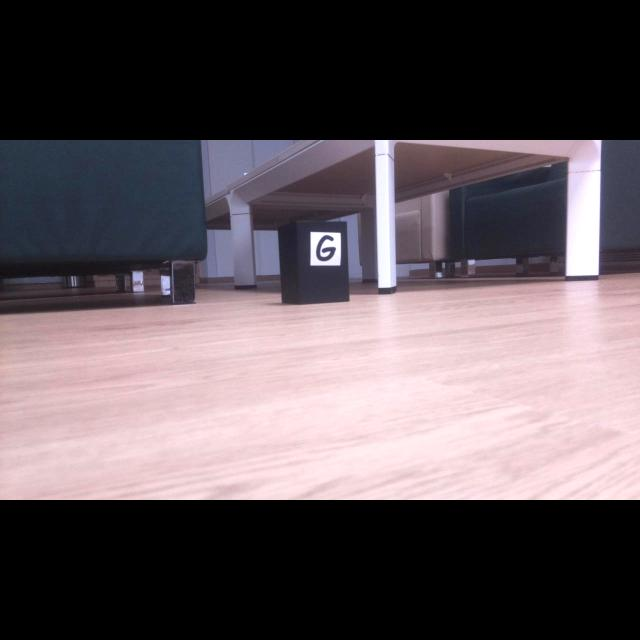G: (316, 235, 336, 261)
